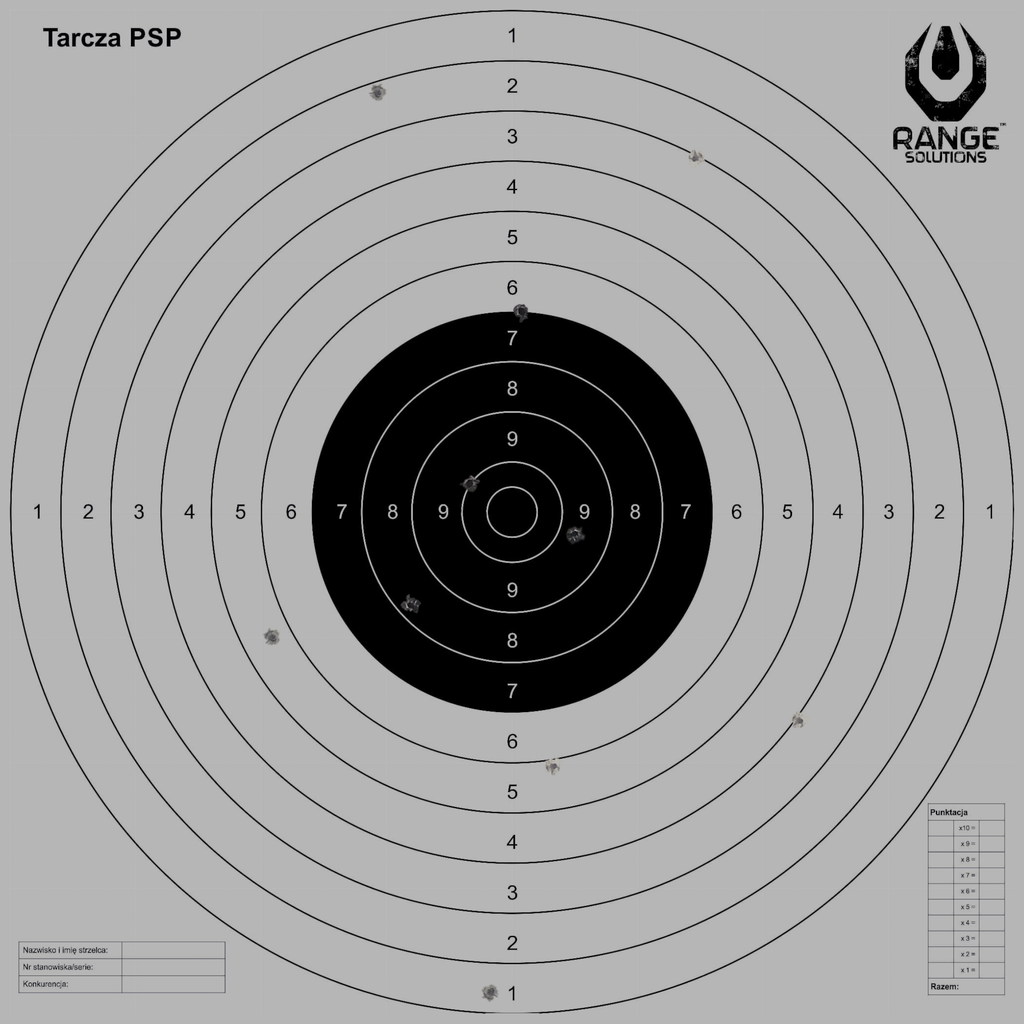0 punktow: (869, 0, 888, 11)
1 punkt: (481, 983, 500, 1001)
10 punktow: (461, 474, 479, 493)
2 punkty: (368, 84, 387, 102)
3 punkty: (686, 149, 704, 168)
4 punkty: (790, 712, 809, 730)
5 punktow: (263, 629, 282, 647)
6 punktow: (544, 757, 563, 776)
7 punktow: (512, 303, 531, 321)
8 punktow: (402, 596, 420, 614)
9 punktow: (566, 525, 584, 543)
